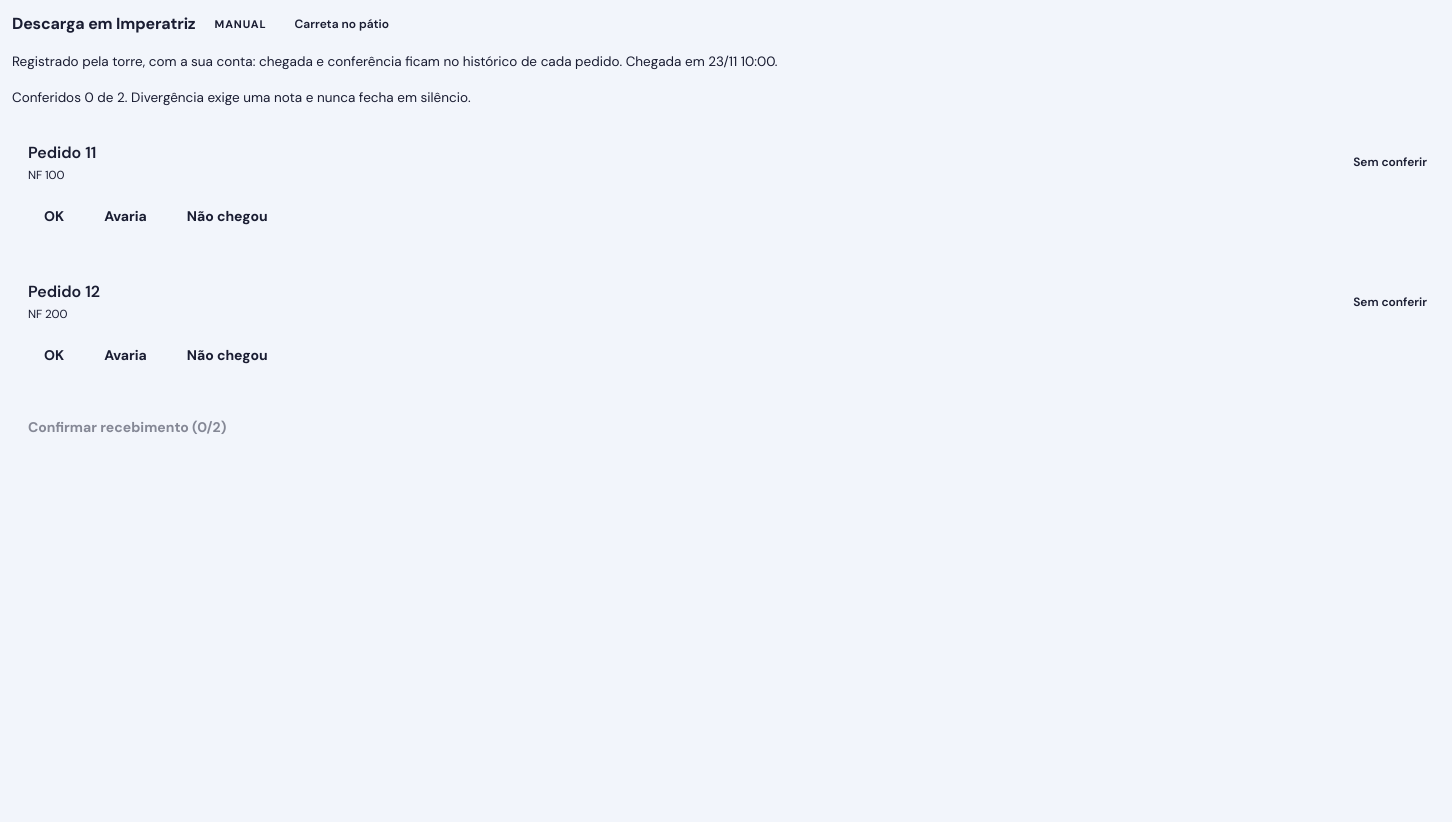
Scenario: doca da viagem na Gestão V2 › 409 na conclusão pede para atualizar e renova a tela
This screenshot has width=1452, height=822.
Click the button with aria-label "Pedido 11: chegou certo": [54, 216] box x1=28 y1=196 x2=80 y2=236
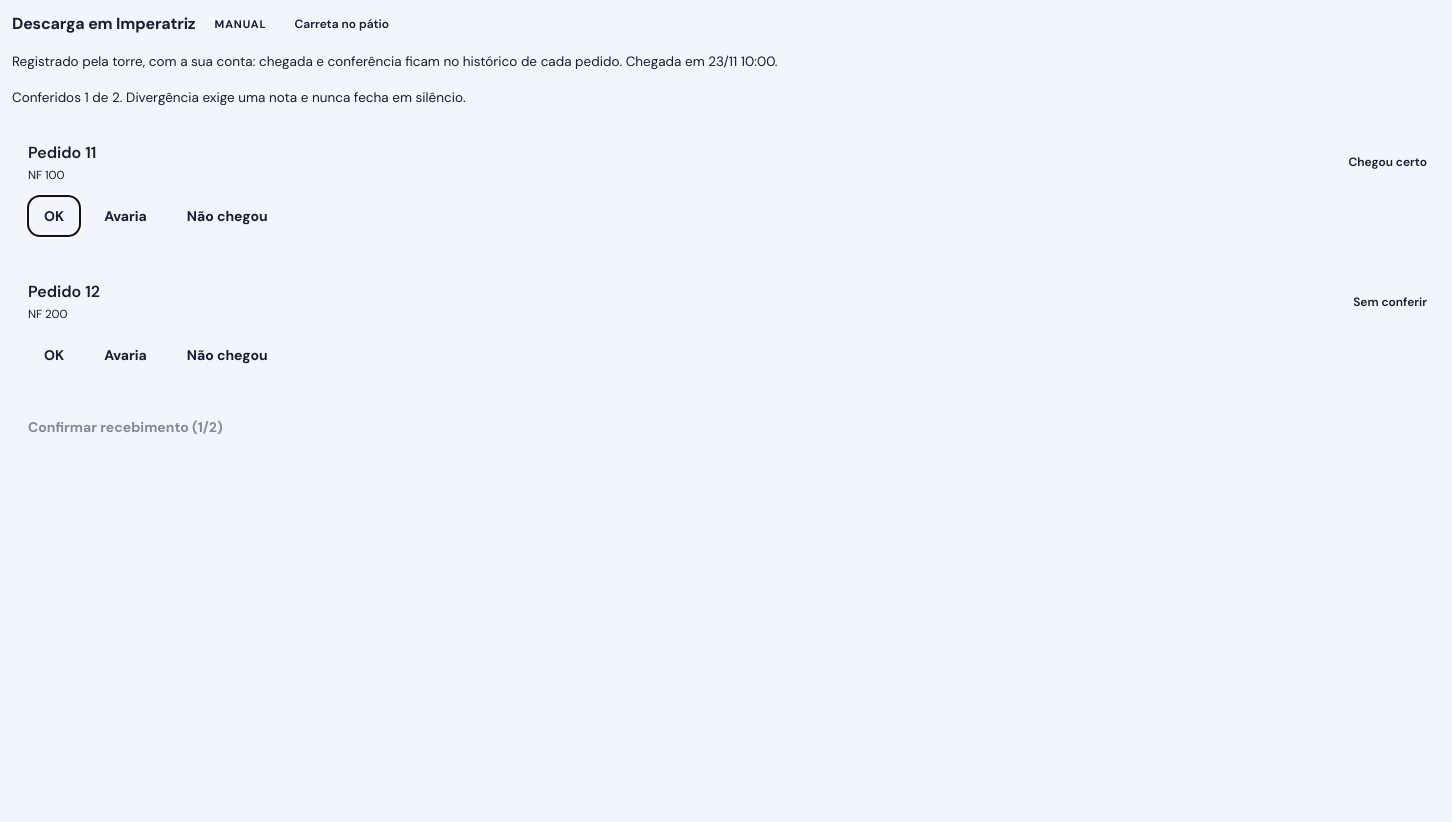
Click the button with aria-label "Pedido 12: chegou certo": [54, 356] box x1=28 y1=336 x2=80 y2=376
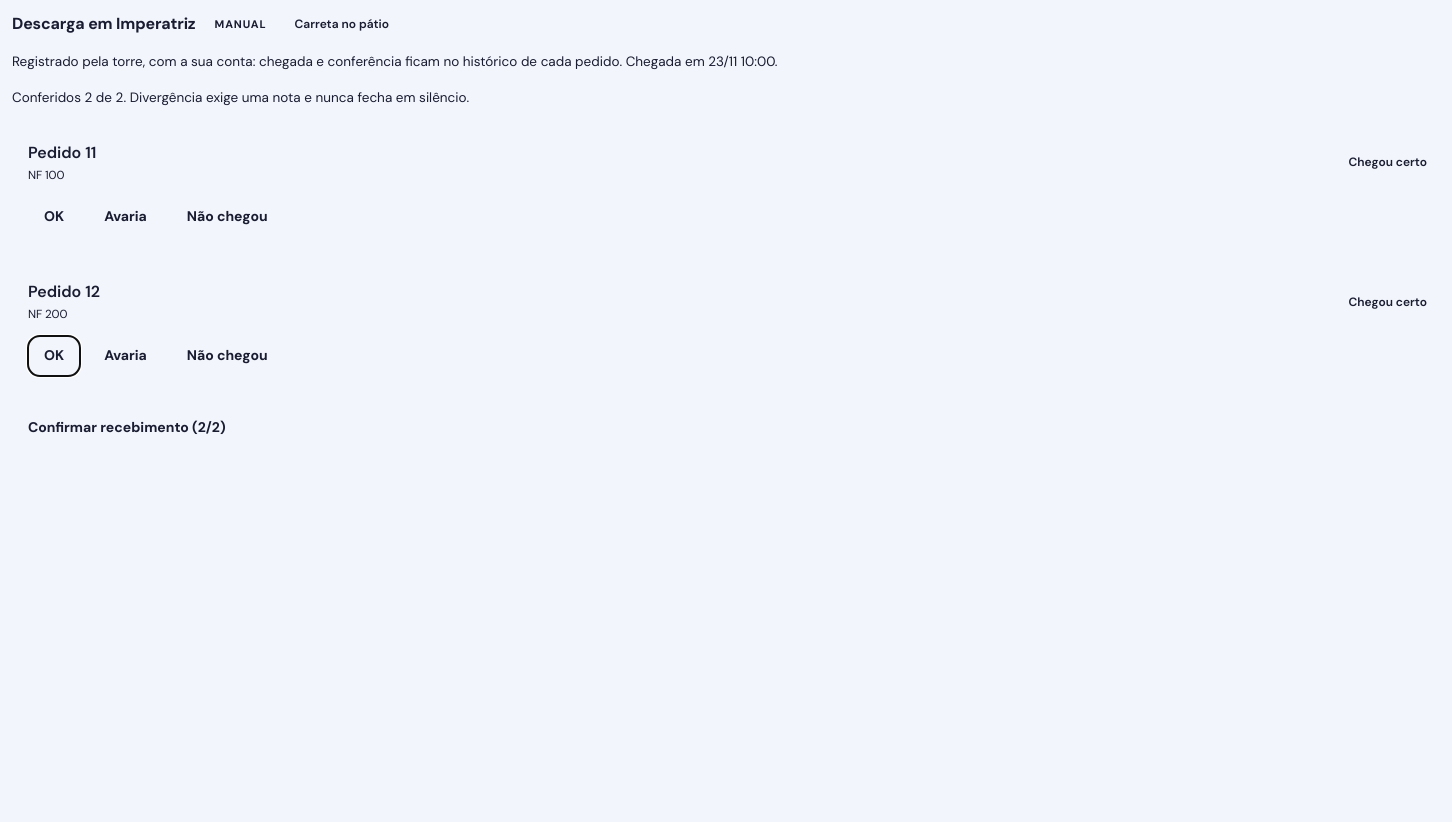
Click the button "Confirmar recebimento (2/2)": [127, 428] box x1=12 y1=408 x2=242 y2=448
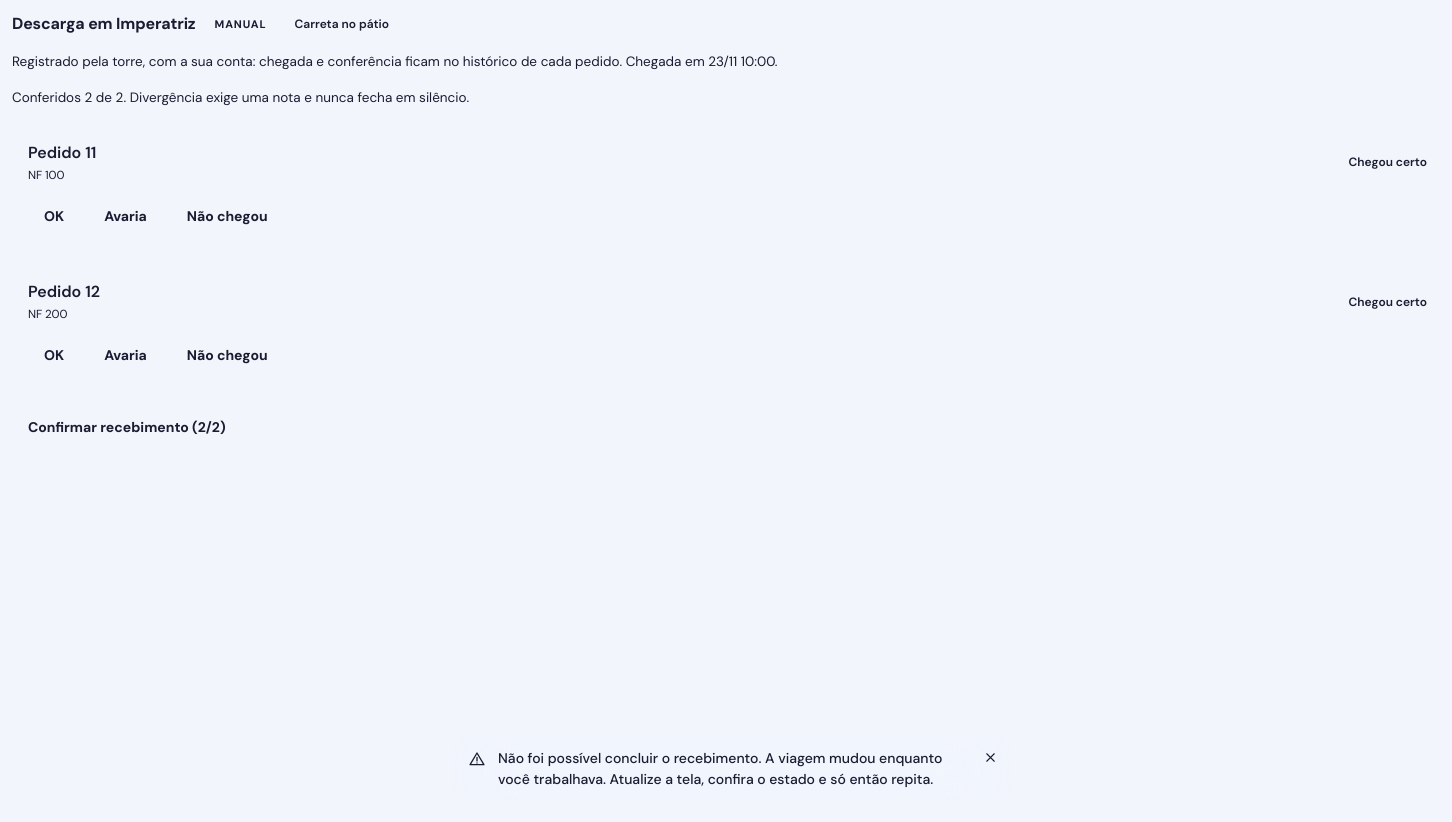
Expected: the text "A viagem mudou enquanto você trabalhava" is shown, x1=498 y1=749 x2=942 y2=788
